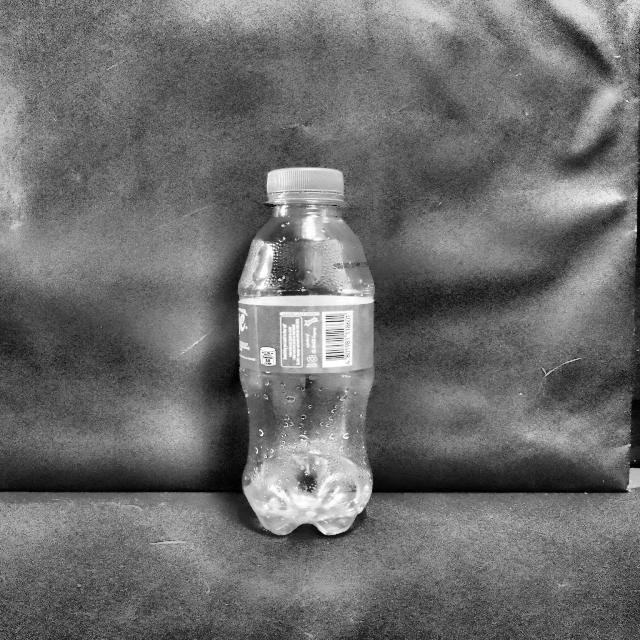Plastic-Bottle: (234, 165, 382, 537)
